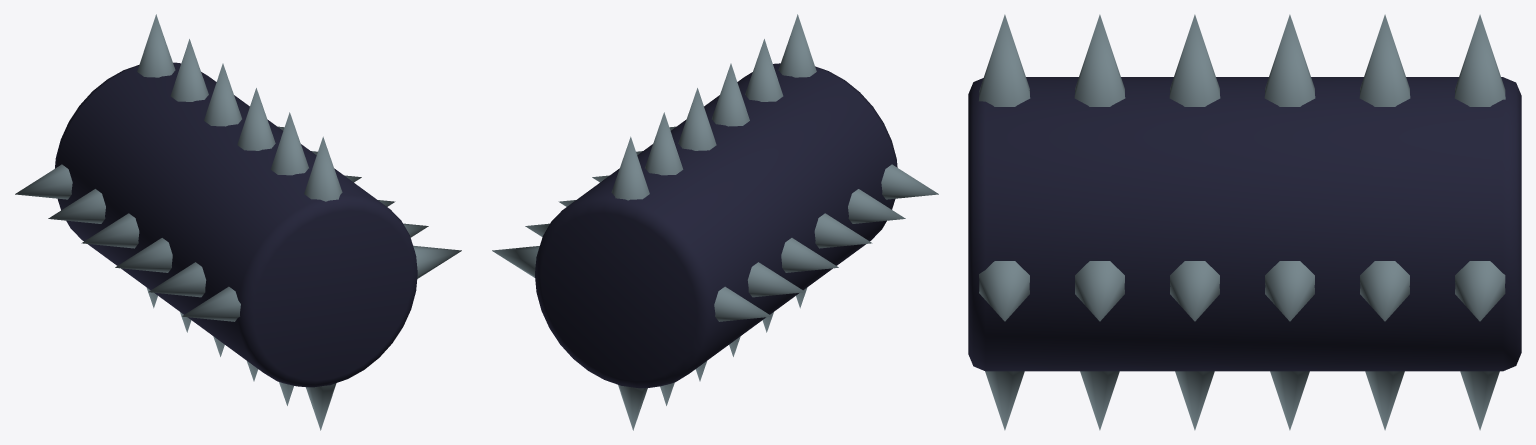
3 renders of one model, left to right at view 1: azimuth 30°, elevation 25°; view 2: azimuth 150°, elevation 25°; view 3: azimuth 270°, elevation 25°, orthographic. The views are drawn at different scales.
Visible parts, largest first — view 1: Cylinder; view 2: Cylinder; view 3: Cylinder.
Boxes of the visible parts, box(x1,y1,x2,y2) form: Cylinder: box(15, 14, 461, 430); Cylinder: box(492, 14, 938, 430); Cylinder: box(968, 14, 1521, 430).
Size of the model in its own units: 2.38 by 2.38 by 2.86.
